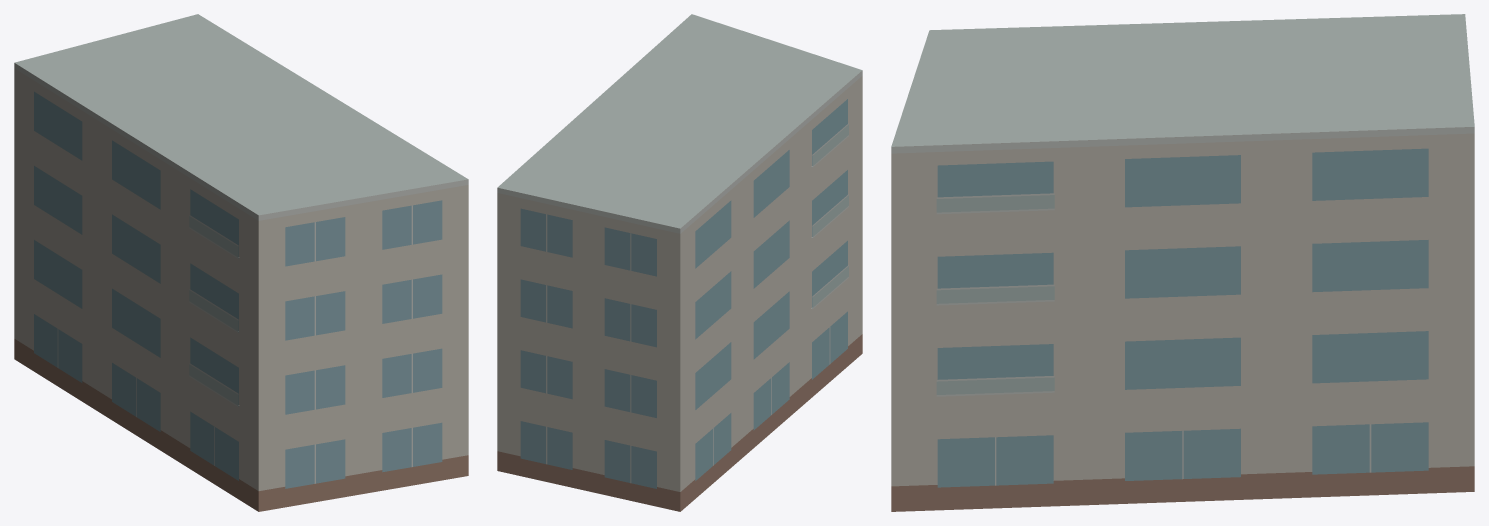
Rendered from survey-upis-32972302.glb.
3 views of the same model, side by side, from view 1: azimuth 30°, elevation 25°; view 2: azimuth 150°, elevation 25°; view 3: azimuth 270°, elevation 25° (orthographic). The views are drawn at different scales.
Parts seen in each view (by area): view 1: survey-upis-32972302.tmp; view 2: survey-upis-32972302.tmp; view 3: survey-upis-32972302.tmp.
Part boxes in pixels (x1,y1,x2,y2): survey-upis-32972302.tmp: [14, 14, 468, 511]; survey-upis-32972302.tmp: [497, 14, 862, 511]; survey-upis-32972302.tmp: [891, 14, 1474, 511].
Size of the model in its own units: 10.29 by 13.17 by 19.1.
